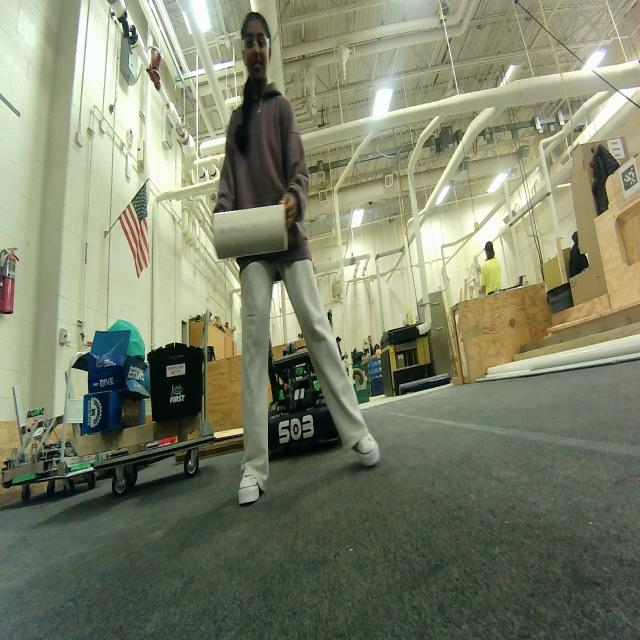coral: (210, 201, 292, 267)
